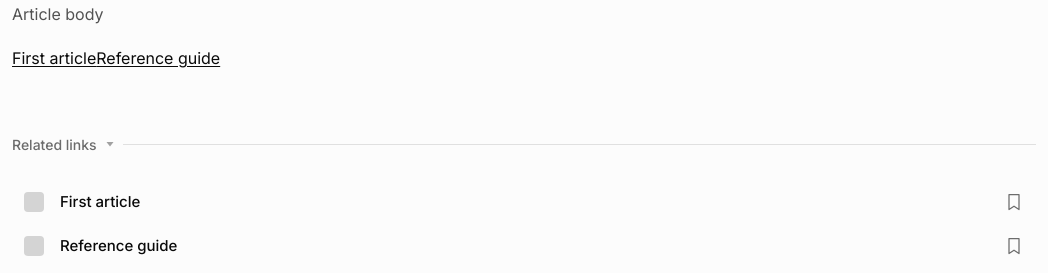
it: Related links in Reader › shows inline failure and retries without navigating
This screenshot has width=1048, height=273.
Click the 1st button named "Save link" at point(1014, 202), box [992,180,1036,224]
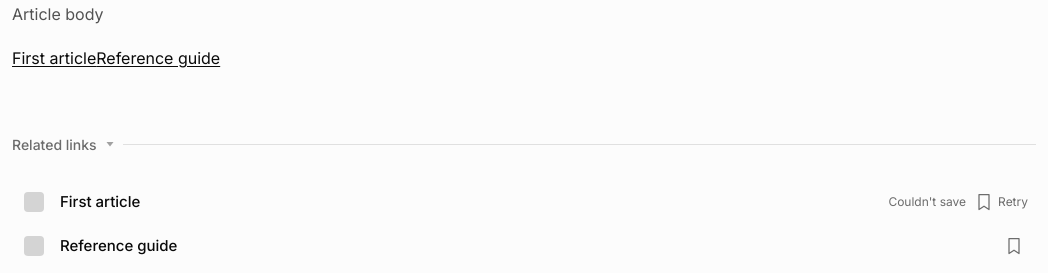
Expected: the message reads "Couldn't save", [888,194,966,209]
Expected: the text "Retry" is shown, [998,193,1028,211]
Click the button with aria-label "Save link" at point(1001, 202), box [966,180,1036,224]
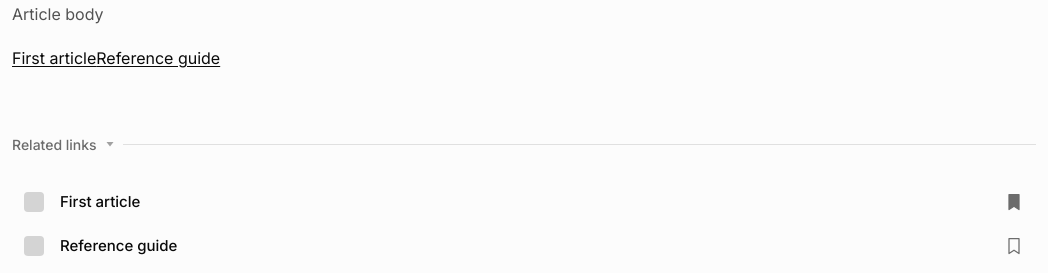
Expected: the button named "Saved" is shown, [992,180,1036,224]
Expected: the message "Couldn't save" is gone
